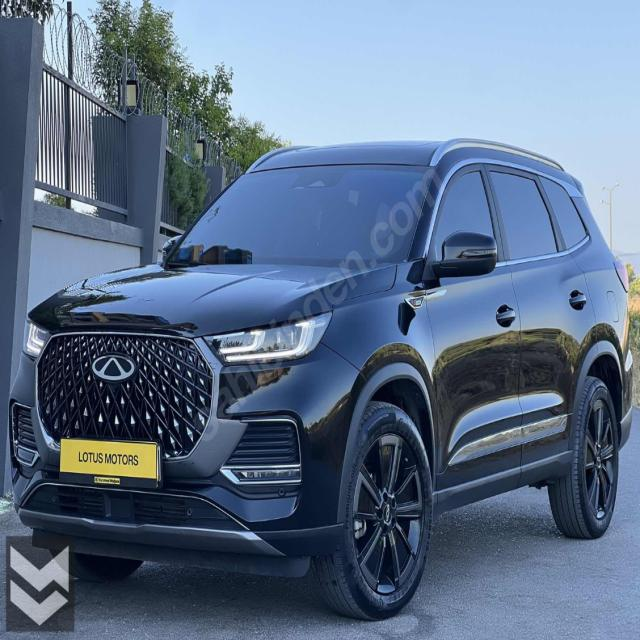cherry: (91, 351, 137, 383)
